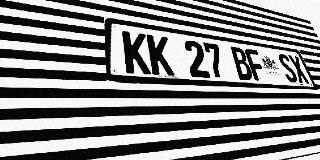2: (183, 39, 210, 78)
7: (202, 42, 228, 79)
B: (229, 46, 254, 80)
F: (244, 48, 268, 81)
K: (122, 31, 151, 75), (146, 34, 175, 76)
S: (276, 53, 299, 83)
X: (287, 55, 310, 83)
